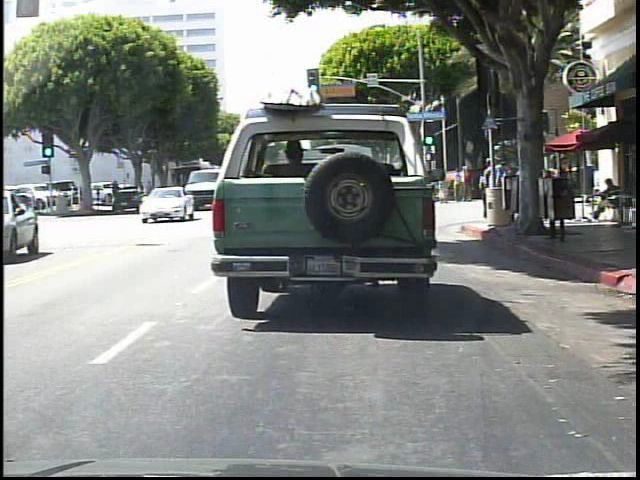person: (590, 174, 625, 222), (492, 157, 510, 221), (479, 158, 496, 219), (492, 161, 508, 219), (519, 165, 536, 215), (535, 163, 549, 206), (462, 163, 475, 203), (586, 162, 598, 200), (454, 168, 465, 202), (439, 170, 449, 204), (429, 176, 439, 206)
